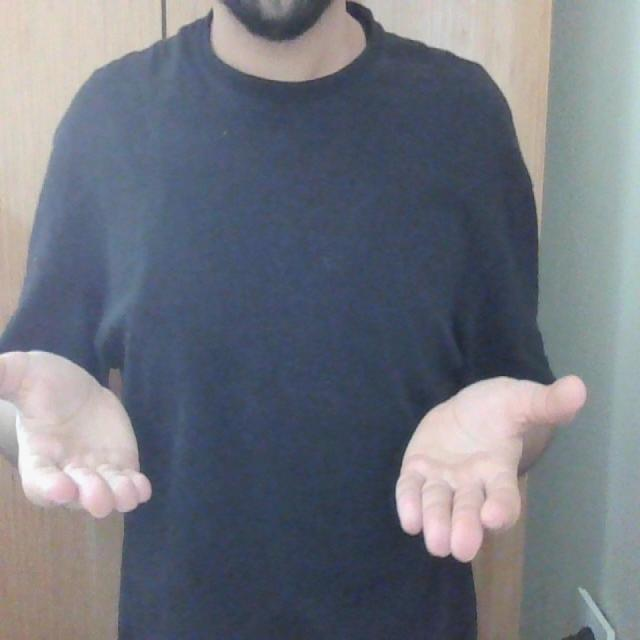Evet: (0, 345, 590, 582)
